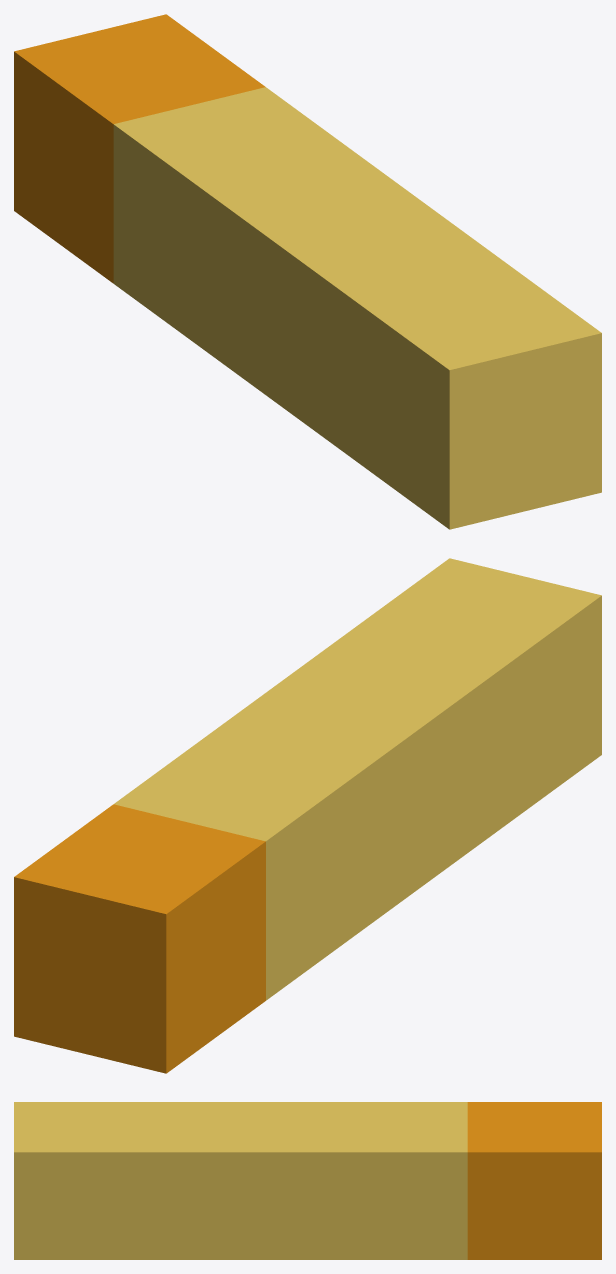
The model's file is GODOT_TDS_BulletCase.gltf.
3 views of the same model, one above another, from view 1: azimuth 30°, elevation 25°; view 2: azimuth 150°, elevation 25°; view 3: azimuth 270°, elevation 25° (orthographic). The views are drawn at different scales.
Parts seen in each view (by area): view 1: Cube.008; view 2: Cube.008; view 3: Cube.008.
Part boxes in pixels (x1=…): Cube.008: x1=14, y1=14, x2=601, y2=529; Cube.008: x1=14, y1=558, x2=601, y2=1073; Cube.008: x1=14, y1=1102, x2=601, y2=1259.
Bounding box in the file's own units: 2 × 2 × 9.9.
